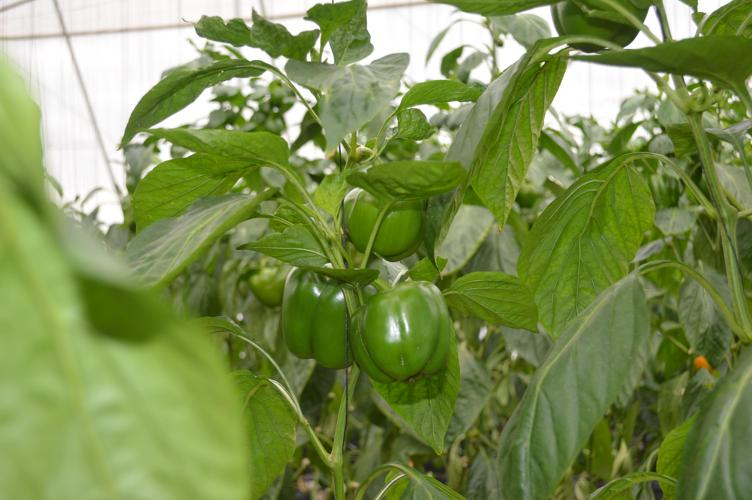BellPepper: (344, 286, 462, 393), (268, 256, 357, 374), (326, 171, 433, 265)
